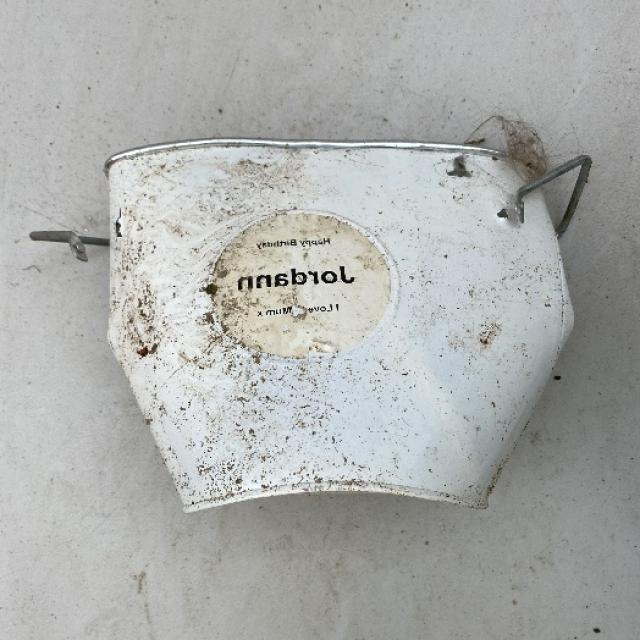inorganic: (27, 100, 591, 522)
